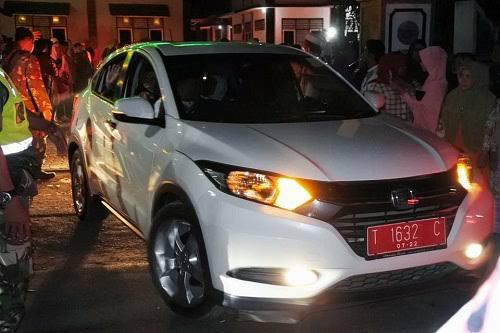plate: (367, 216, 446, 255)
